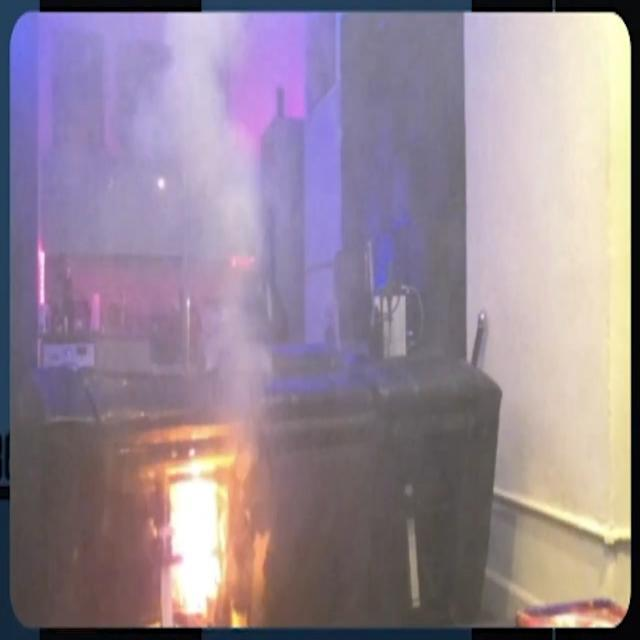Fire: (168, 478, 226, 604)
Smoke: (166, 29, 280, 412)
